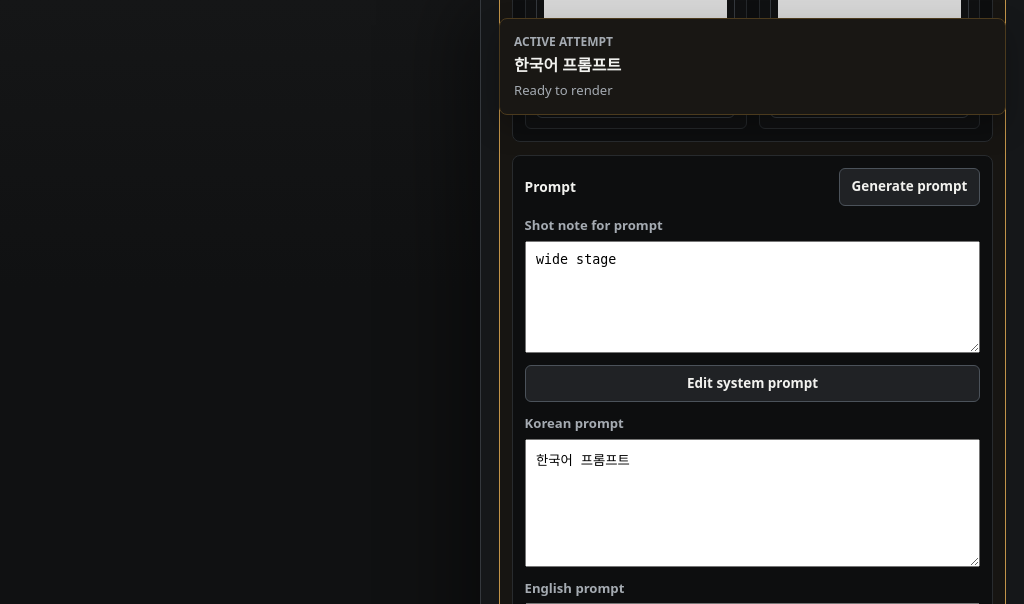
it: ShotDrawer asset attempts › saves the current system prompt as the studio-wide default
The image size is (1024, 604).
(page scrolled)
Click the button with aria-label "Edit system prompt for attempt attempt-1".
click(752, 384)  # box x1=525 y1=365 x2=980 y2=402
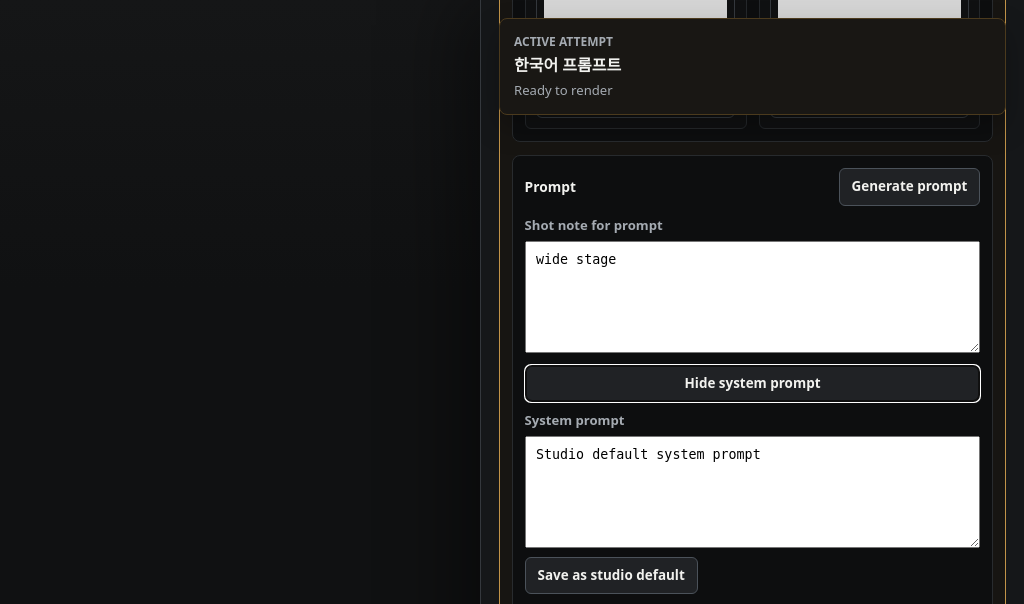
Replace the text in the text box named "System prompt for attempt attempt-1" with "Saved studio system prompt" at (752,492), box x1=525 y1=436 x2=980 y2=548
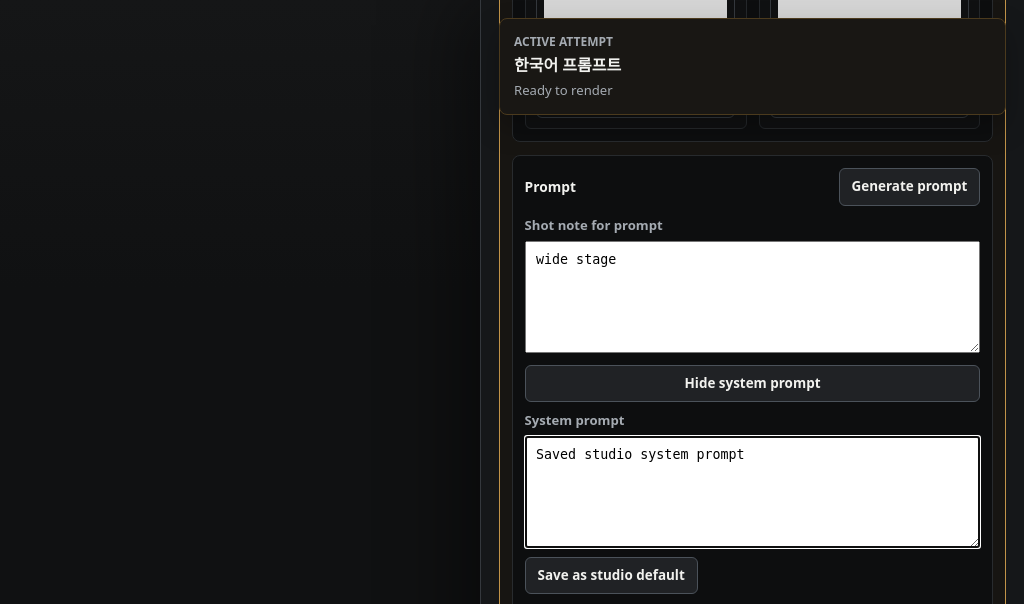
Click the button with aria-label "Save as studio default for attempt attempt-1".
click(611, 575)  # box x1=525 y1=556 x2=698 y2=594
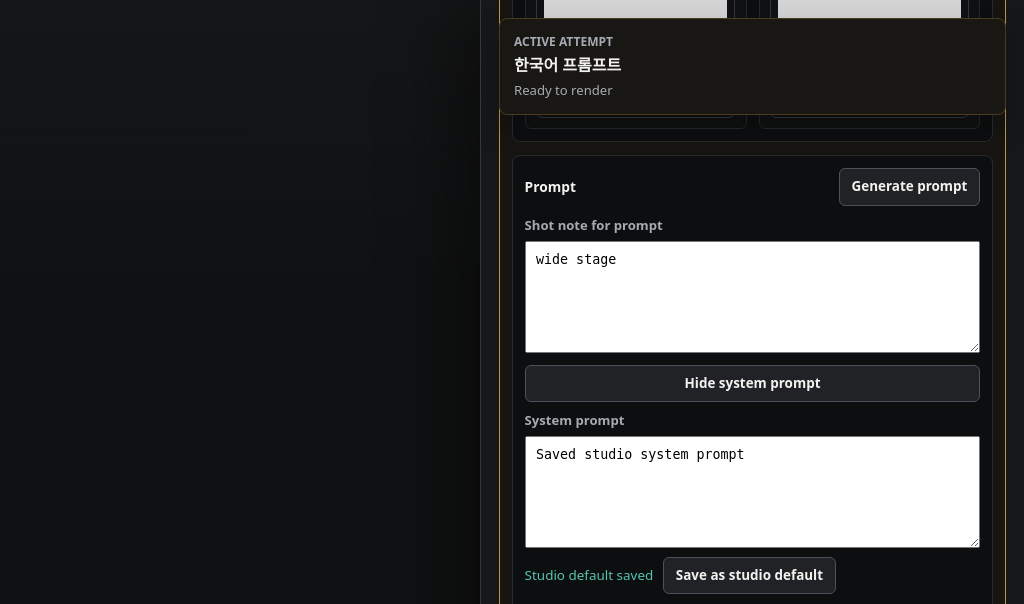
Now the text "Studio default saved" is shown, box x1=525 y1=566 x2=653 y2=585
